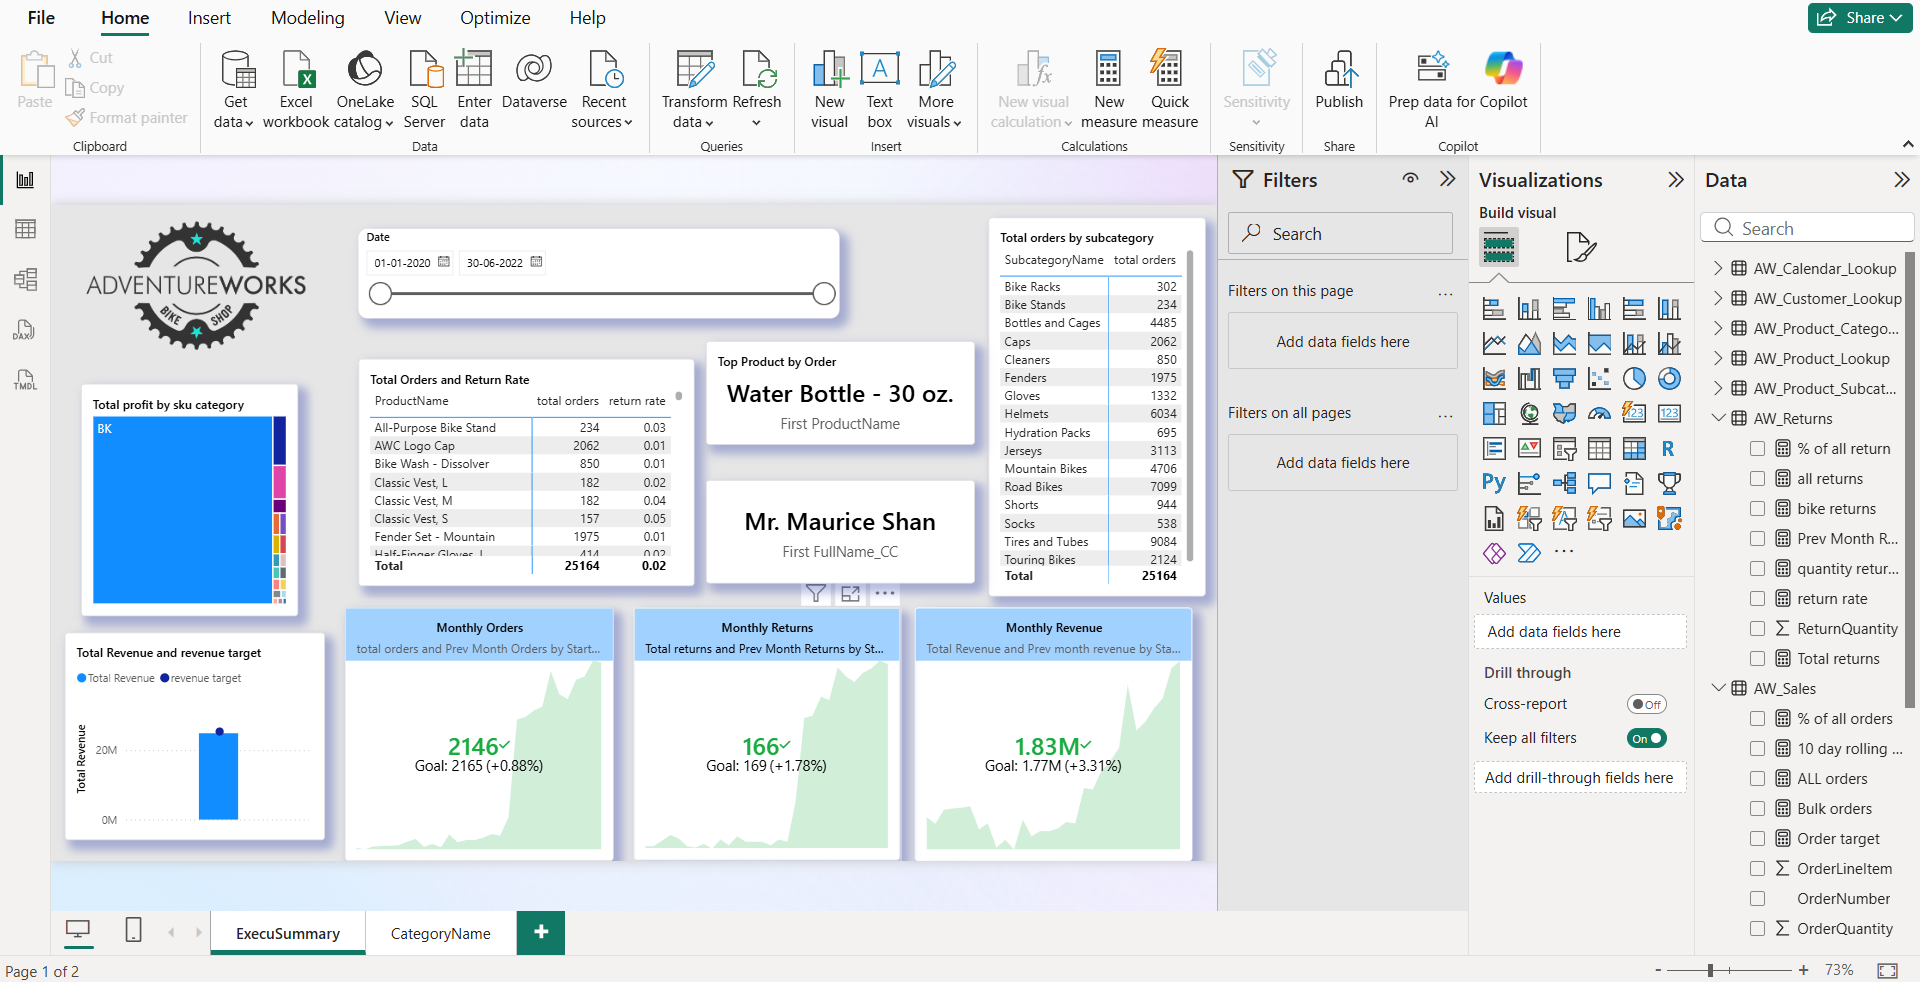

The page's visual inventory and layout, read from the dashboard file:
{"tool":"powerbi","page":{"name":"ExecuSummary","canvas":[1280,720],"ordinal":0},"visuals":[{"type":"image","box":[12.3,13.7,295,149.6],"z":0},{"type":"pivotTable","title":"Total orders by subcategory","fields":{"Rows":["AW_Product_Subcategories_Lookup.SubcategoryName"],"Values":["AW_Sales.total orders"]},"box":[1029.2,13.7,238.8,415.8],"z":1000},{"type":"pivotTable","title":"Total Orders and Return Rate","fields":{"Rows":["AW_Product_Categories_Lookup.CategoryName","AW_Product_Subcategories_Lookup.SubcategoryName","AW_Product_Lookup.ProductName"],"Values":["AW_Sales.Total Orders","AW_Returns.return rate"]},"box":[337.6,168.8,369.1,249.7],"z":2000},{"type":"slicer","fields":{"Values":["AW_Calendar_Lookup.Date"]},"box":[337.6,26.1,528.3,98.8],"z":3000},{"type":"kpi","title":"Monthly Revenue","fields":{"Indicator":["AW_Sales.Total Revenue"],"TrendLine":["AW_Calendar_Lookup.StartofMonth"],"Goal":["AW_Sales.Prev month revenue"]},"box":[948.2,441.9,304.6,278.6],"z":4000},{"type":"kpi","title":"Monthly Orders","fields":{"Indicator":["AW_Sales.total orders"],"TrendLine":["AW_Calendar_Lookup.StartofMonth"],"Goal":["AW_Sales.Prev Month Orders"]},"box":[322.5,441.9,295,278.6],"z":5000},{"type":"kpi","title":"Monthly Returns","fields":{"TrendLine":["AW_Calendar_Lookup.StartofMonth"],"Indicator":["AW_Returns.Total returns"],"Goal":["AW_Returns.Prev Month Returns"]},"box":[640,442.5,292.5,277.5],"z":6000},{"type":"card","title":"Top Product by Order","fields":{"Values":["Min(AW_Product_Lookup.ProductName)"]},"box":[719,149.6,295,113.9],"z":7000},{"type":"card","fields":{"Values":["Min(AW_Customer_Lookup.FullName_CC)"]},"box":[719,301.9,295,113.9],"z":8000},{"type":"treemap","fields":{"Group":["AW_Product_Lookup.sku category"],"Values":["AW_Sales.Total profit"]},"box":[32.9,196.2,238.8,255.2],"z":8001},{"type":"lineClusteredColumnComboChart","fields":{"Y":["AW_Sales.Total Revenue"],"Y2":["AW_Sales.revenue target"]},"box":[15.1,469.3,285.4,227.8],"z":8002}]}

Visuals, with their boxes on the page's 1280x720 design canvas (x1, y1, x2, y2). These are canvas units, not pixel positions in the 1920x982 screenshot, which may show the page scaled, cropped or inside an application window:
image: (12, 14, 307, 163)
"Total orders by subcategory" pivotTable: (1029, 14, 1268, 430)
"Total Orders and Return Rate" pivotTable: (338, 169, 707, 418)
slicer - AW_Calendar_Lookup.Date: (338, 26, 866, 125)
"Monthly Revenue" kpi: (948, 442, 1253, 720)
"Monthly Orders" kpi: (322, 442, 618, 720)
"Monthly Returns" kpi: (640, 442, 932, 720)
"Top Product by Order" card: (719, 150, 1014, 264)
card - Min(AW_Customer_Lookup.FullName_CC): (719, 302, 1014, 416)
treemap - AW_Product_Lookup.sku category x AW_Sales.Total profit: (33, 196, 272, 451)
lineClusteredColumnComboChart - AW_Sales.Total Revenue x AW_Sales.revenue target: (15, 469, 300, 697)
